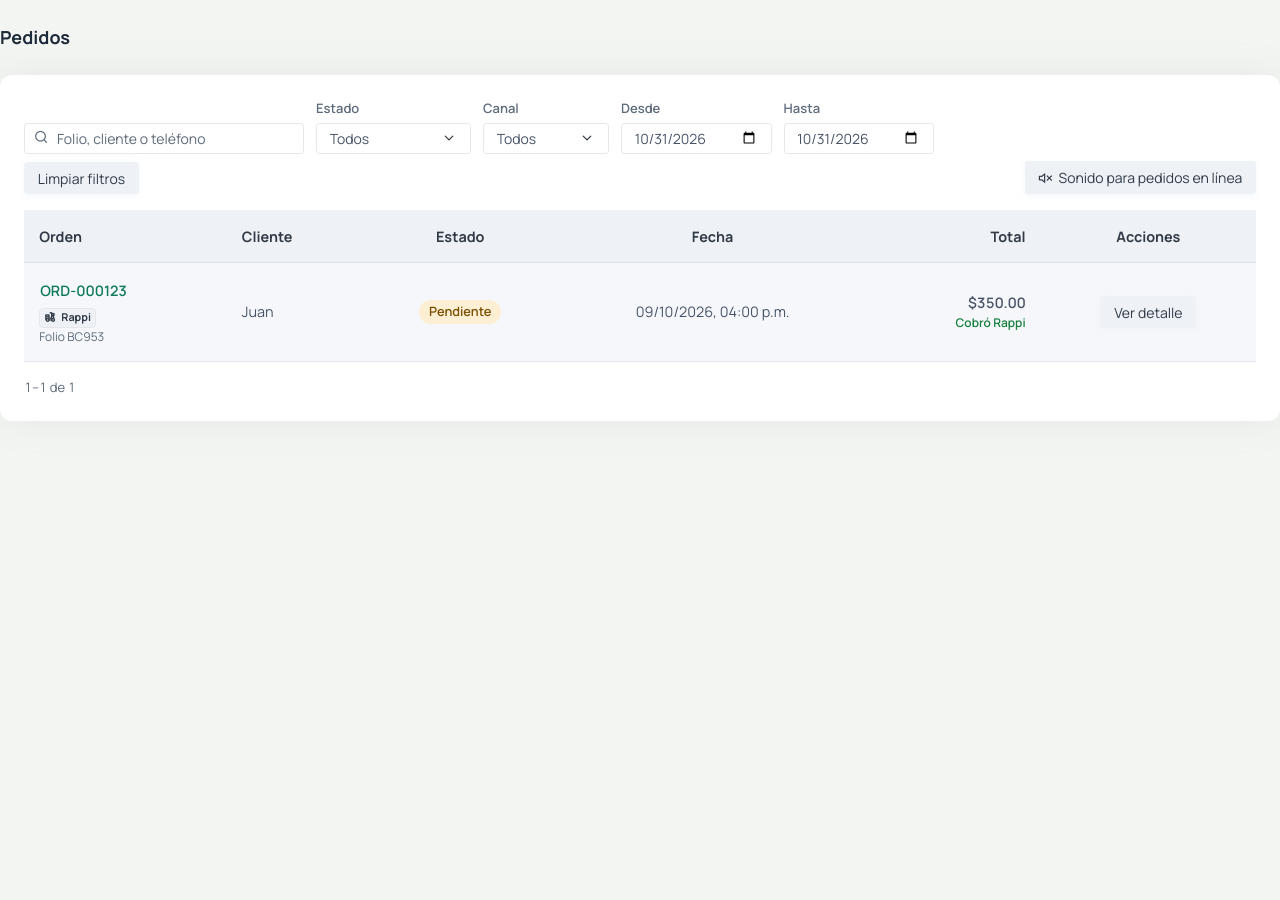
Test: OrdersList › shows where an order of a platform came from and who charged it, without a phone, a table or a customer card
The image size is (1280, 900).
Click the button "ORD-000123" at x=83, y=291, box [39,279,128,302]
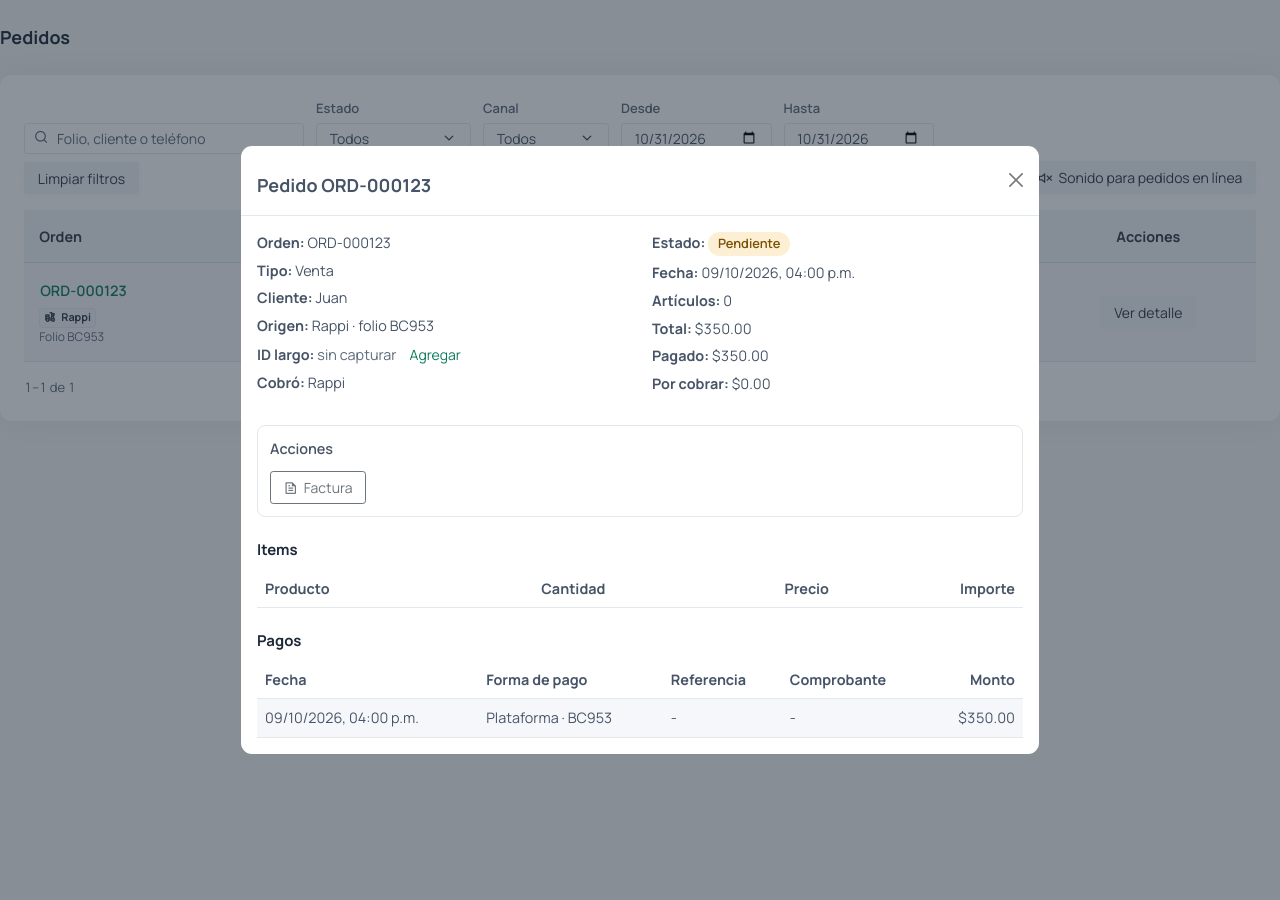
Now the dialog "Pedido ORD-000123" shows "Origen: Rappi · folio BC953", box [240,145,1040,755]
Now the dialog "Pedido ORD-000123" shows "Cobró: Rappi", box [240,145,1040,755]
Now the cell "Plataforma · BC953" is shown, box [478,699,663,737]
